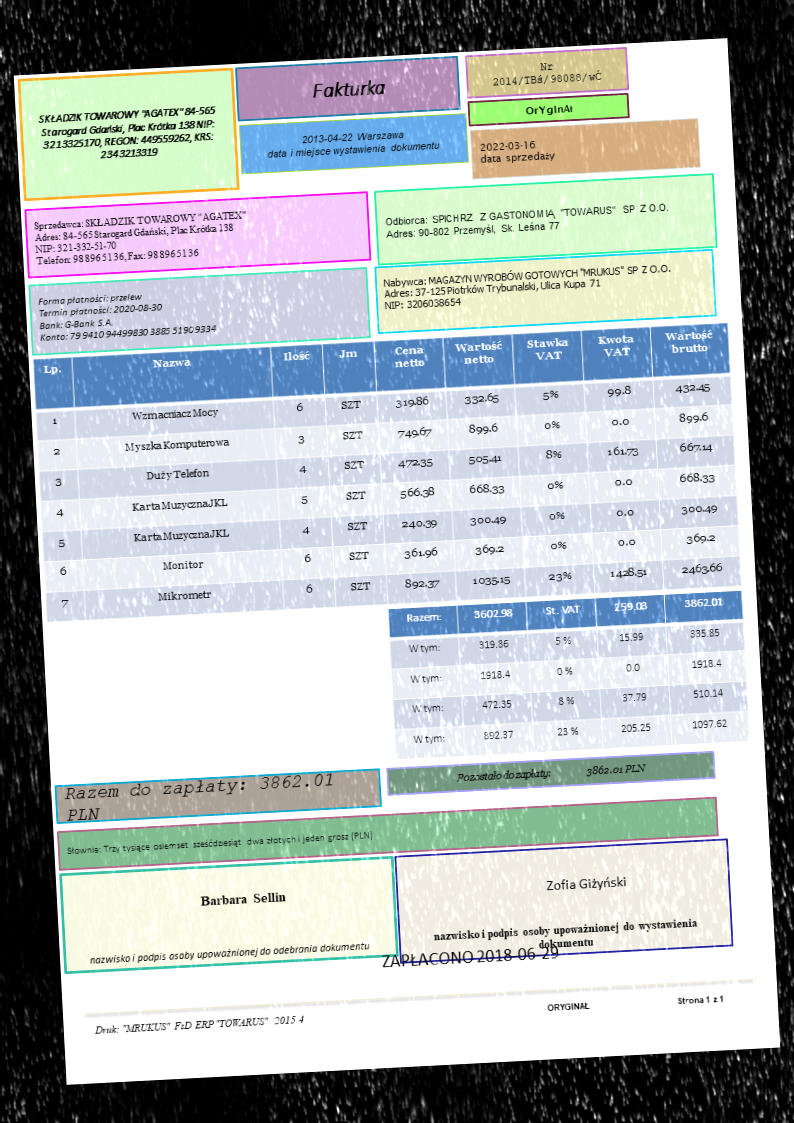Table: (31, 322, 742, 623), (387, 589, 750, 759)
TextBox: (380, 261, 672, 312), (63, 773, 335, 823), (30, 208, 249, 268), (383, 200, 673, 242), (35, 102, 219, 166), (35, 285, 219, 346), (431, 917, 700, 956), (65, 829, 375, 858), (87, 938, 371, 968), (264, 125, 442, 162), (93, 1012, 307, 1037), (453, 761, 650, 785), (379, 945, 560, 971), (545, 992, 726, 1014), (489, 56, 604, 88), (477, 136, 558, 167), (309, 78, 387, 101), (543, 874, 629, 894), (198, 890, 286, 908), (523, 101, 576, 118)
